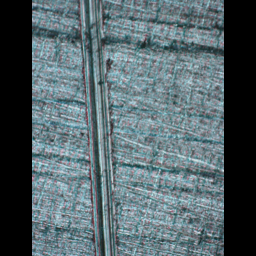d: (74, 0, 121, 256)
